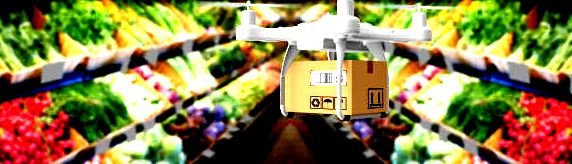Drone: (228, 0, 452, 59)
